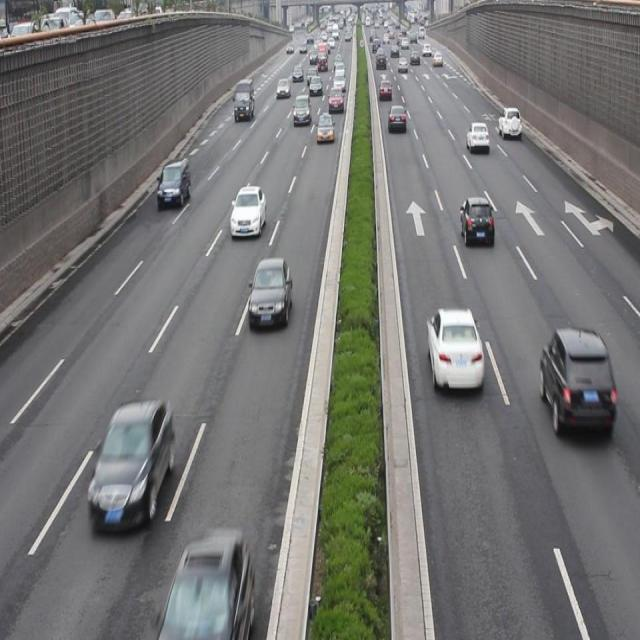car: (87, 396, 174, 532), (164, 525, 253, 640), (538, 323, 614, 438), (425, 306, 482, 391), (248, 256, 292, 328), (230, 183, 266, 238), (460, 194, 494, 248), (156, 159, 191, 205), (496, 105, 520, 140), (464, 121, 488, 153), (316, 112, 334, 144), (387, 103, 406, 133)
